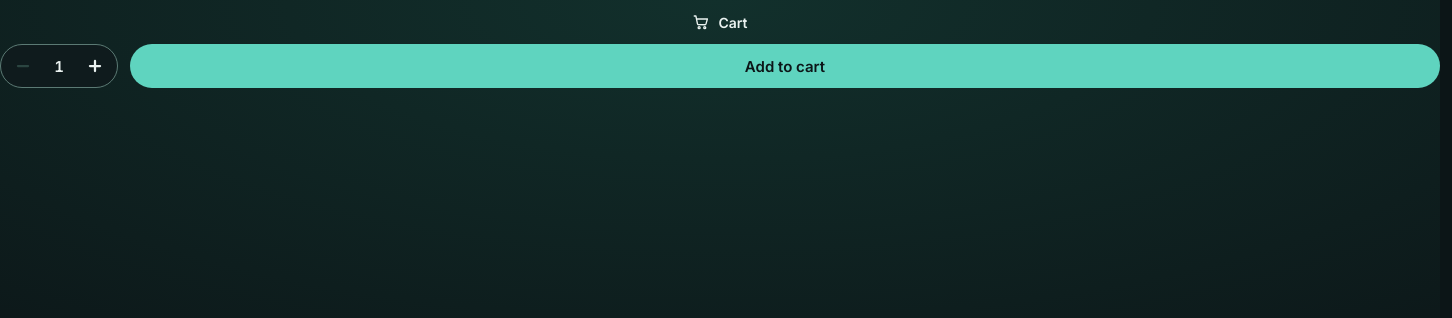
it: AddToCart when signed in › shows the server's error and keeps the quantity
This screenshot has width=1452, height=318.
expect the button "Add to cart" is enabled: met, box [130,44,1440,88]
Step 1. Click the button named "Increase quantity" → (95, 66), box [77,48,113,84]
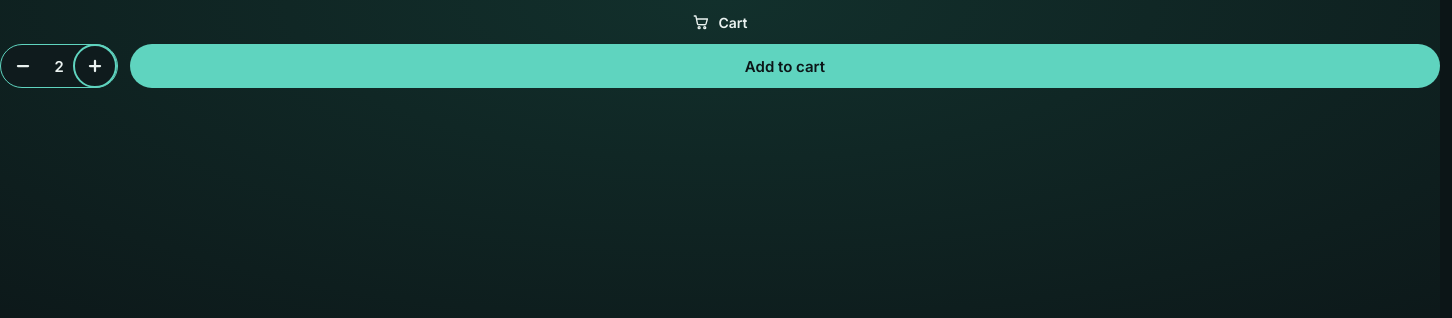
Step 2. Click the button "Add to cart" → (785, 66), box [130,44,1440,88]
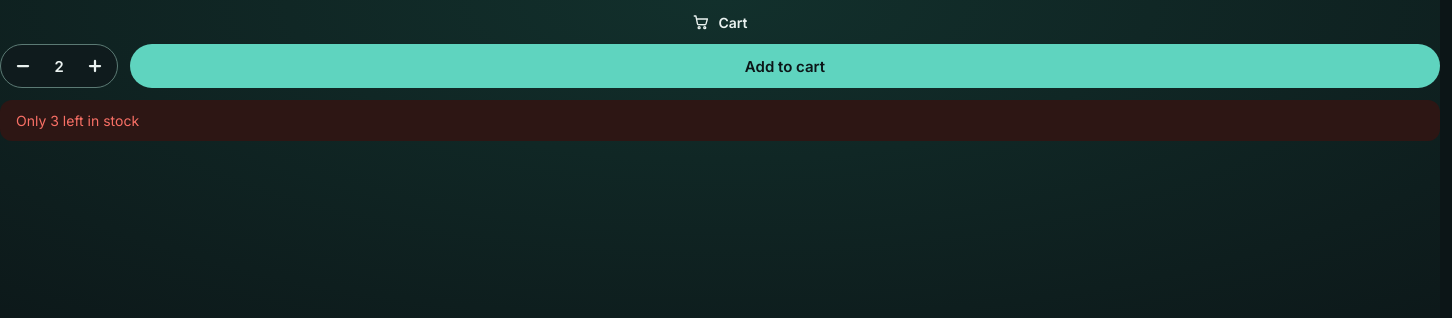
expect the number field named "Quantity" holds "2": met, box [41,56,77,76]
expect the message reads "Only 3 left in stock": met, box [16,112,139,129]
